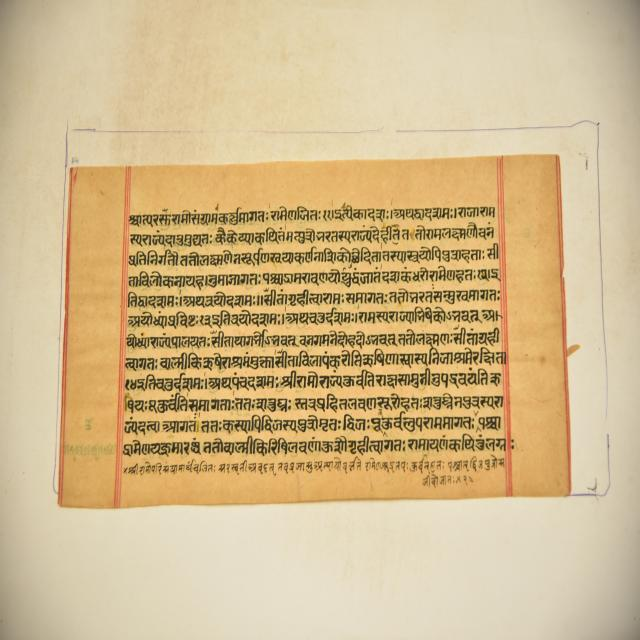text_paragraph: (54, 149, 570, 505)
